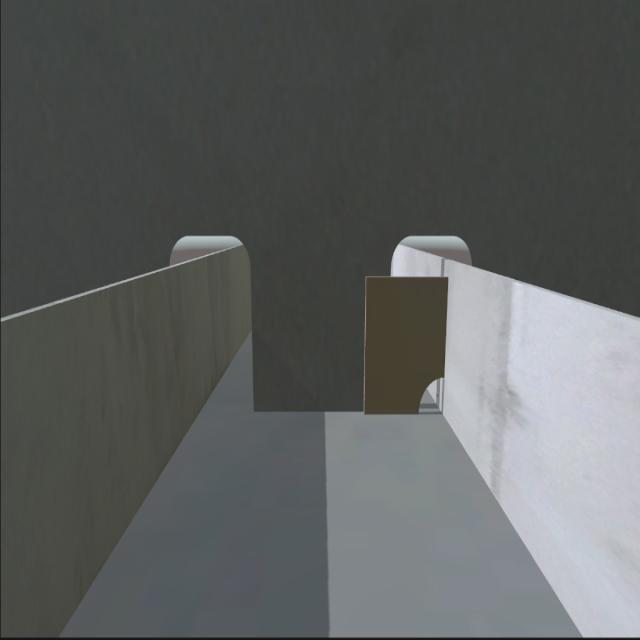fillet_hole: (418, 375, 448, 413)
fillet_yong_jeop_jang: (254, 399, 428, 419)
longi_yong_jeop_jang: (441, 271, 458, 380)
plate_CP01: (365, 269, 447, 416)
